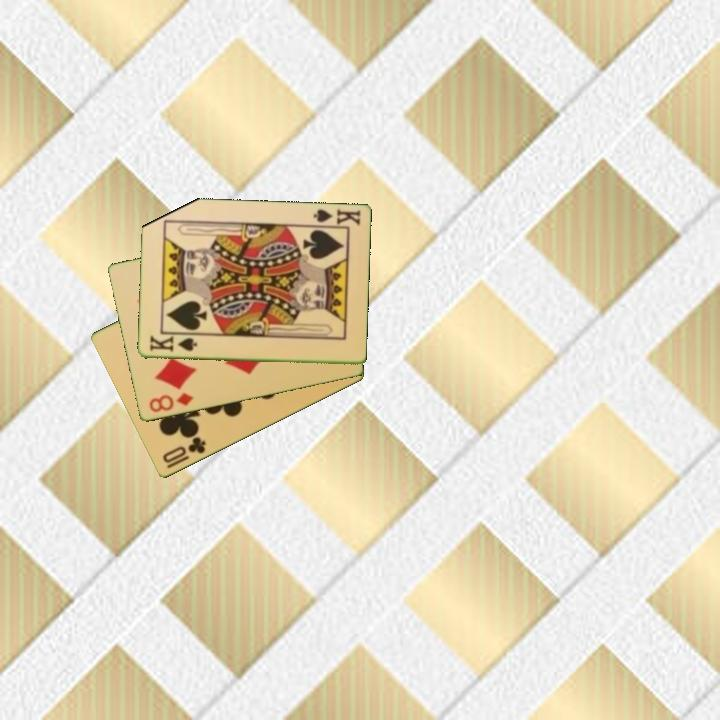10c: (159, 433, 209, 466)
8d: (145, 389, 196, 416)
Ks: (307, 206, 363, 230), (146, 332, 199, 355)
